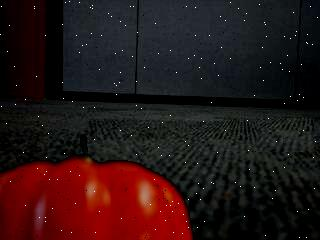Pumpkin: (0, 132, 191, 240)
